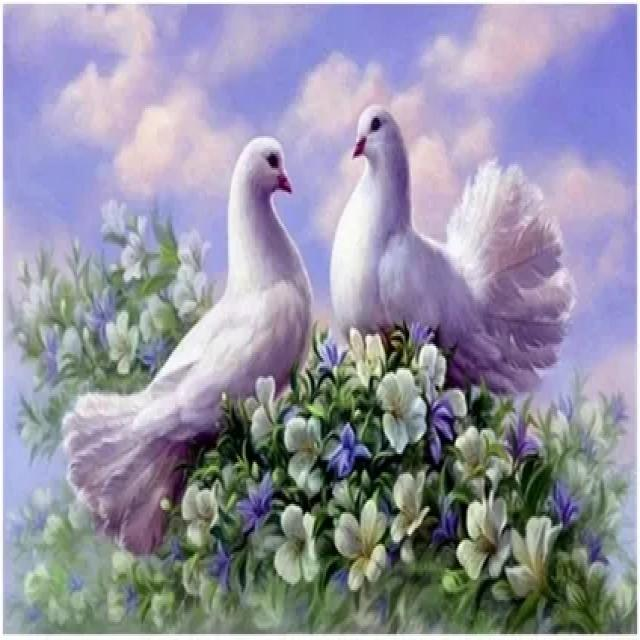pigeon: (52, 128, 316, 556), (328, 96, 584, 423)
